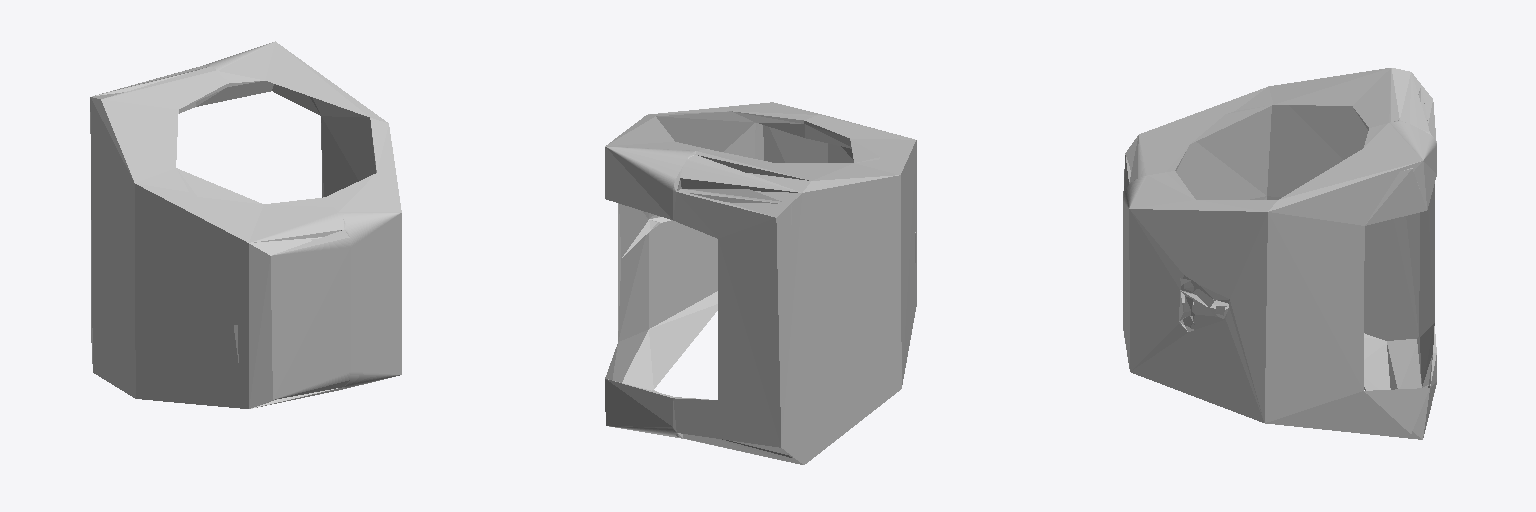
Rendered from body_link0_5.obj.
3 renders of one model, left to right at view 1: azimuth 30°, elevation 25°; view 2: azimuth 150°, elevation 25°; view 3: azimuth 270°, elevation 25°, orthographic.
Parts seen in each view (by area): view 1: body_link0_5; view 2: body_link0_5; view 3: body_link0_5.
Part boxes in pixels (x1,y1,x2,y2): body_link0_5: (90, 41, 401, 408); body_link0_5: (605, 102, 916, 464); body_link0_5: (1123, 68, 1436, 439).
Bounding box in the file's own units: 149 × 160 × 160.